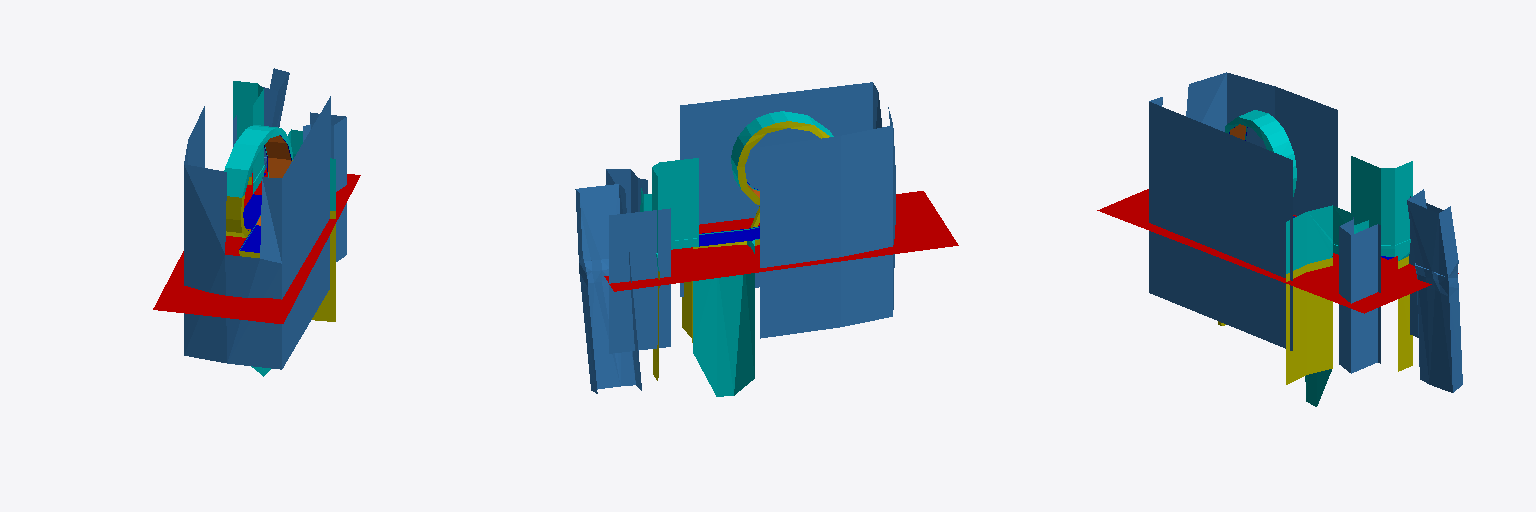
The model's file is STG0100_COLI_12.OBJ.
The picture shows the model from 3 angles: view 1: azimuth 30°, elevation 25°; view 2: azimuth 150°, elevation 25°; view 3: azimuth 270°, elevation 25°; orthographic projection.
Parts seen in each view (by area): view 1: STG0100_COLI_12_[number redacted], STG0100_COLI_12_[number redacted], STG0100_COLI_12_[number redacted], STG0100_COLI_12_[number redacted], STG0100_COLI_12_[number redacted], STG0100_COLI_12_[number redacted]; view 2: STG0100_COLI_12_[number redacted], STG0100_COLI_12_[number redacted], STG0100_COLI_12_[number redacted], STG0100_COLI_12_[number redacted], STG0100_COLI_12_[number redacted]; view 3: STG0100_COLI_12_[number redacted], STG0100_COLI_12_[number redacted], STG0100_COLI_12_[number redacted], STG0100_COLI_12_[number redacted].
Part boxes in pixels (bbox=[...]): STG0100_COLI_12_[number redacted]: bbox=[184, 68, 346, 369]; STG0100_COLI_12_[number redacted]: bbox=[153, 168, 360, 323]; STG0100_COLI_12_[number redacted]: bbox=[224, 81, 335, 376]; STG0100_COLI_12_[number redacted]: bbox=[226, 160, 335, 321]; STG0100_COLI_12_[number redacted]: bbox=[239, 135, 291, 252]; STG0100_COLI_12_[number redacted]: bbox=[247, 135, 291, 229]; STG0100_COLI_12_[number redacted]: bbox=[575, 82, 895, 393]; STG0100_COLI_12_[number redacted]: bbox=[640, 111, 833, 396]; STG0100_COLI_12_[number redacted]: bbox=[604, 191, 958, 291]; STG0100_COLI_12_[number redacted]: bbox=[653, 121, 829, 380]; STG0100_COLI_12_[number redacted]: bbox=[699, 182, 759, 246]; STG0100_COLI_12_[number redacted]: bbox=[1149, 72, 1462, 392]; STG0100_COLI_12_[number redacted]: bbox=[1225, 110, 1412, 406]; STG0100_COLI_12_[number redacted]: bbox=[1218, 256, 1412, 384]; STG0100_COLI_12_[number redacted]: bbox=[1097, 189, 1458, 313].
Size of the model in its own units: 2224 by 1957 by 2395.